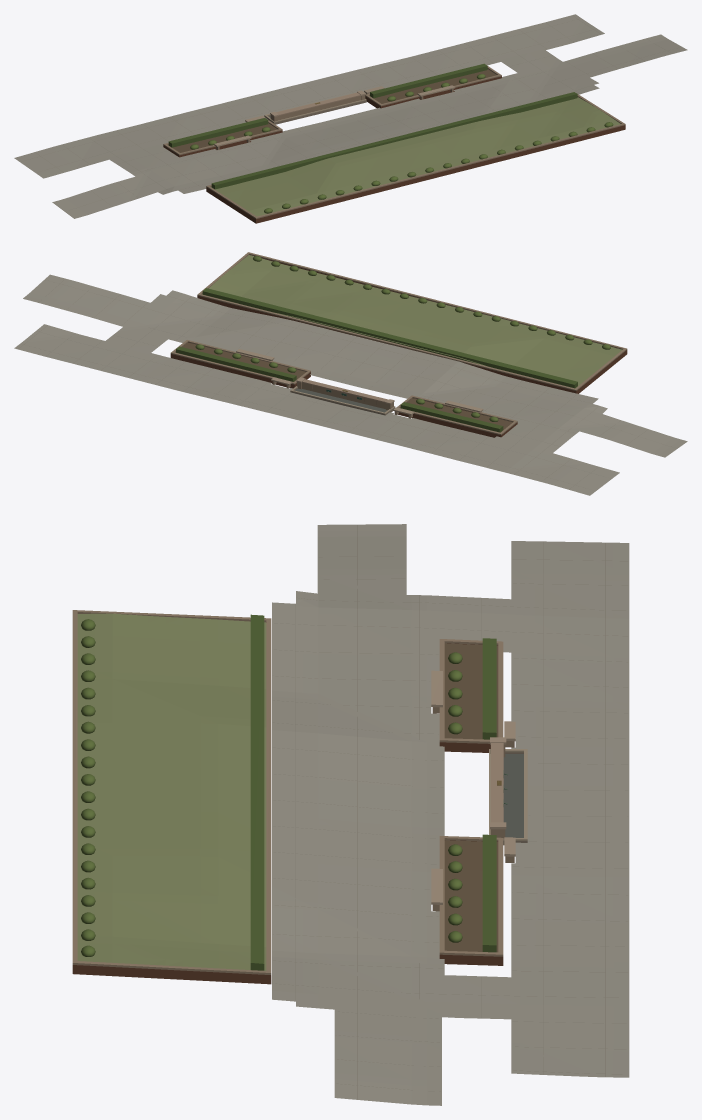
Rendered from site.glb.
3 views of the same model, one above another, from view 1: azimuth 30°, elevation 25°; view 2: azimuth 150°, elevation 25°; view 3: azimuth 270°, elevation 25° (orthographic). The views are drawn at different scales.
Parts seen in each view (by area): view 1: knight-north-plaza-paving, knight-bailey-fountain, knight-north-plaza-planting; view 2: knight-north-plaza-paving, knight-bailey-fountain, knight-north-plaza-planting; view 3: knight-north-plaza-paving, knight-bailey-fountain, knight-north-plaza-planting.
Boxes of the visible parts, bbox=[...] form: knight-north-plaza-paving: bbox=[14, 14, 687, 218]; knight-bailey-fountain: bbox=[163, 66, 625, 223]; knight-north-plaza-planting: bbox=[168, 63, 613, 213]; knight-north-plaza-paving: bbox=[14, 255, 687, 495]; knight-bailey-fountain: bbox=[170, 252, 627, 437]; knight-north-plaza-planting: bbox=[176, 256, 610, 432]; knight-north-plaza-paving: bbox=[77, 524, 629, 1105]; knight-bailey-fountain: bbox=[72, 610, 527, 984]; knight-north-plaza-planting: bbox=[81, 614, 496, 970].
Size of the model in its own units: 68.97 by 2.38 by 26.91.
